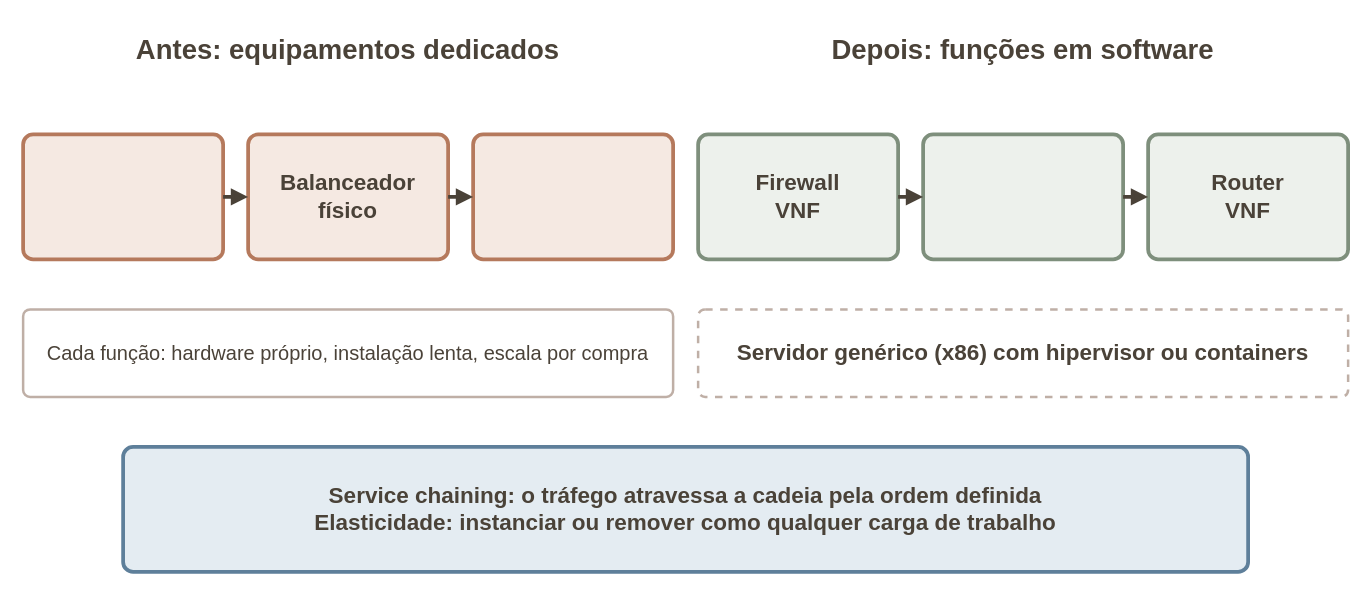
Image size: 1371x595. Some labels were removed from this diagram. Here are the shapes that lost their labels. From the top down, the box of each, then its label:
(21, 132, 224, 261): Firewall físico
(471, 132, 674, 261): Router físico
(921, 132, 1124, 261): Balanceador VNF
